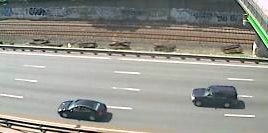car: (188, 83, 241, 111), (57, 96, 109, 124)
